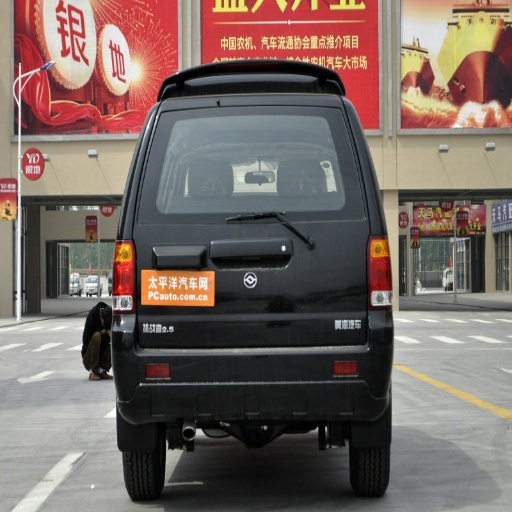_background_: (125, 313, 393, 421)
back_bumper: (136, 123, 308, 215)
back_left_door: (110, 240, 136, 314)
back_right_door: (369, 236, 393, 314)
tailgate: (133, 161, 375, 381)
trunk: (120, 425, 164, 501), (347, 421, 390, 495), (83, 310, 113, 369)
